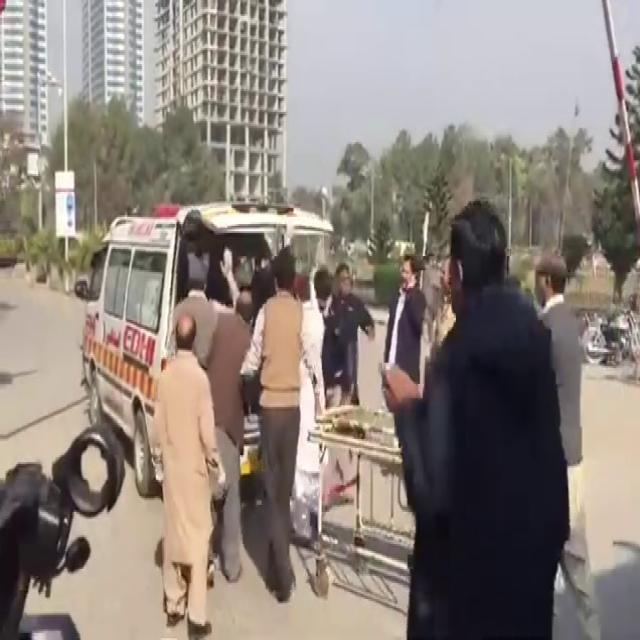ambulance: (73, 206, 277, 414)
